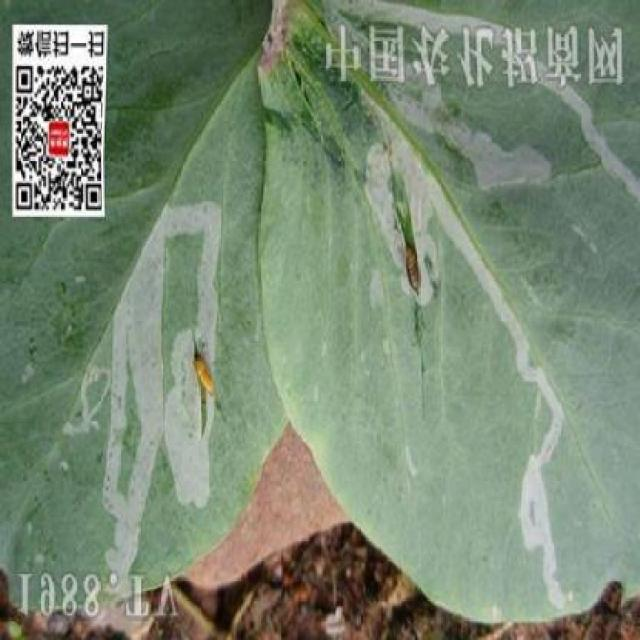whorl-maggot: (188, 344, 220, 408), (402, 238, 429, 296)
